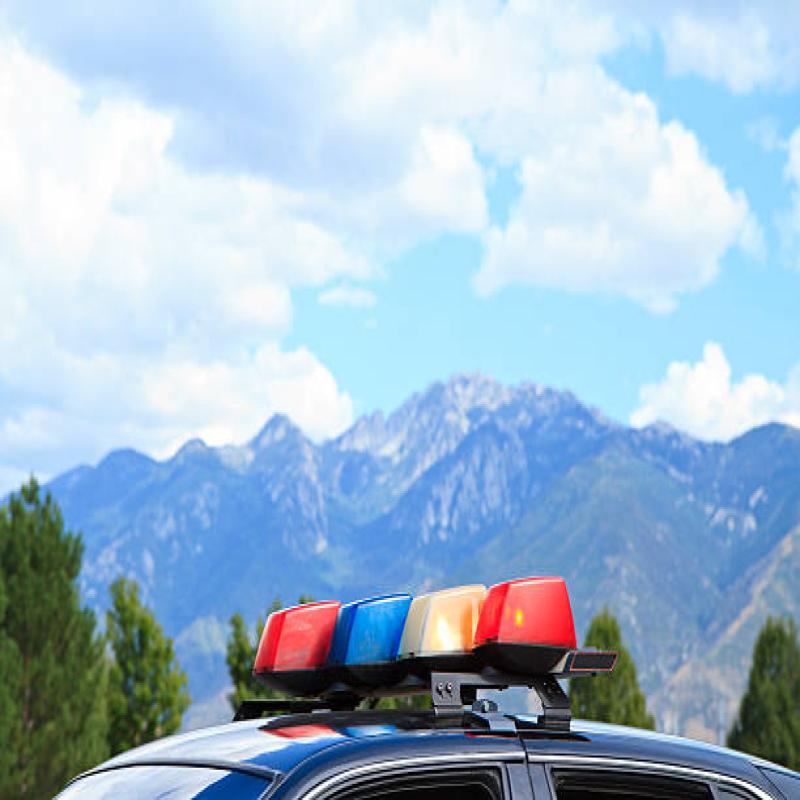AmbulanceSiren: (242, 561, 587, 707)
